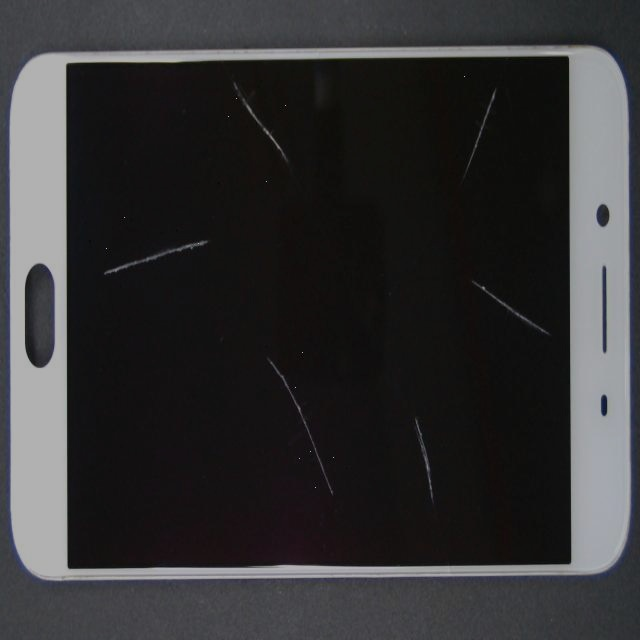scratch: (211, 262, 636, 640), (229, 150, 640, 452), (159, 259, 477, 640), (207, 94, 640, 278), (65, 98, 149, 412), (125, 17, 337, 117)
